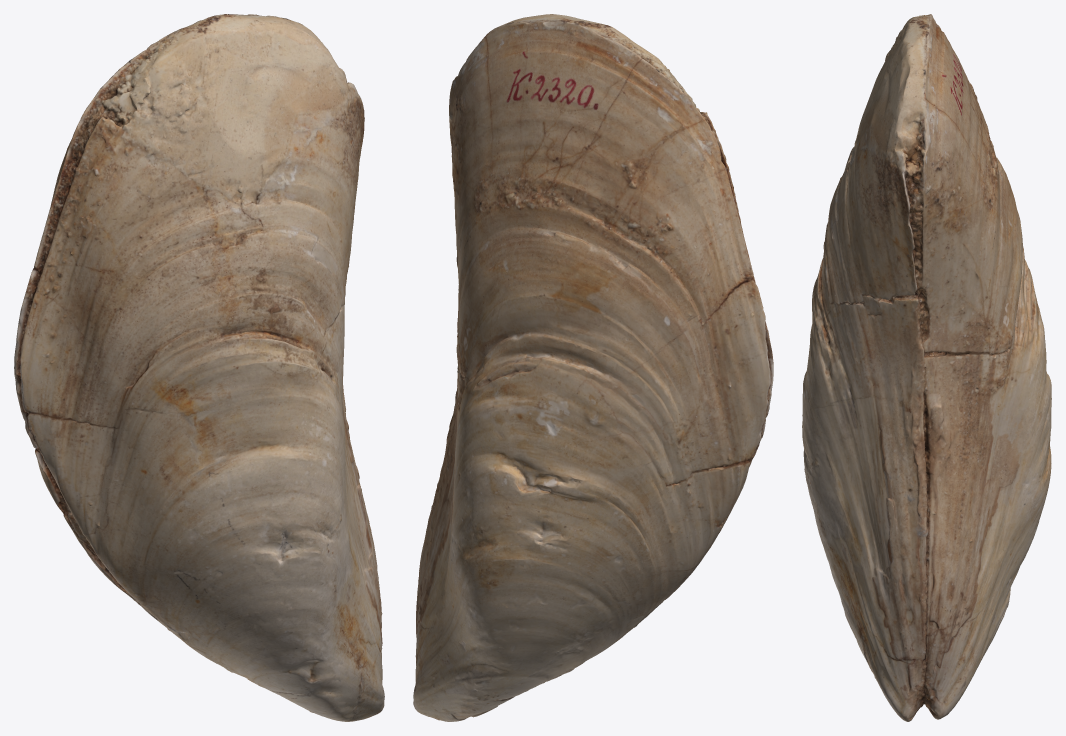
Rendered from EWS0016289.glb.
3 renders of one model, left to right at view 1: azimuth 30°, elevation 25°; view 2: azimuth 150°, elevation 25°; view 3: azimuth 270°, elevation 25°, orthographic. The views are drawn at different scales.
Visible parts, largest first — view 1: input; view 2: input; view 3: input.
Part boxes in pixels (<box>): input: <box>14,14,384,721</box>; input: <box>413,14,773,721</box>; input: <box>802,14,1051,721</box>.
Bounding box in the file's own units: 0.0712 × 0.1396 × 0.0499.
1 material, 1 textured.
